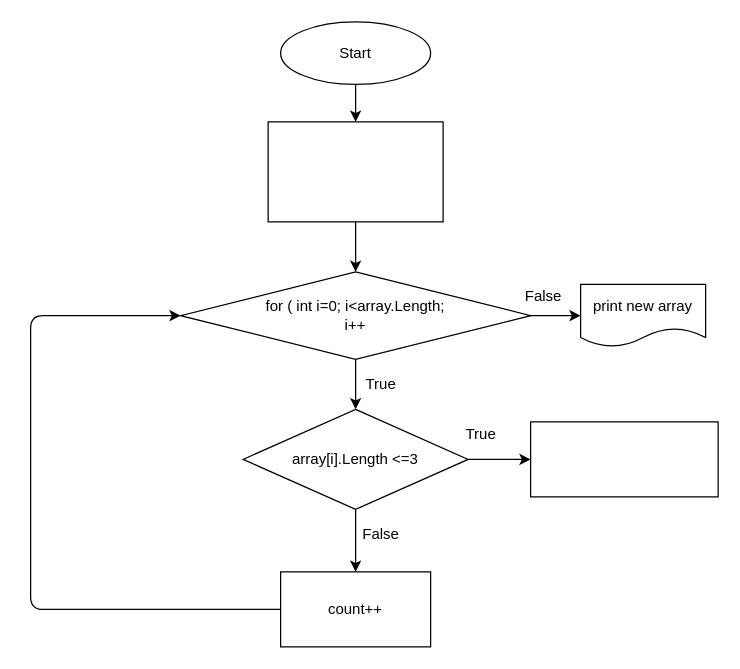
This 740x669 diagram has some shape labels left out. Here are the shapes that lost their labels. From the top down, the box of each, then its label:
(267, 121, 443, 222): string array = "...,..." string newarray = new string[array.Length] int count=0
(529, 421, 718, 497): newarray[count] = array[i]
